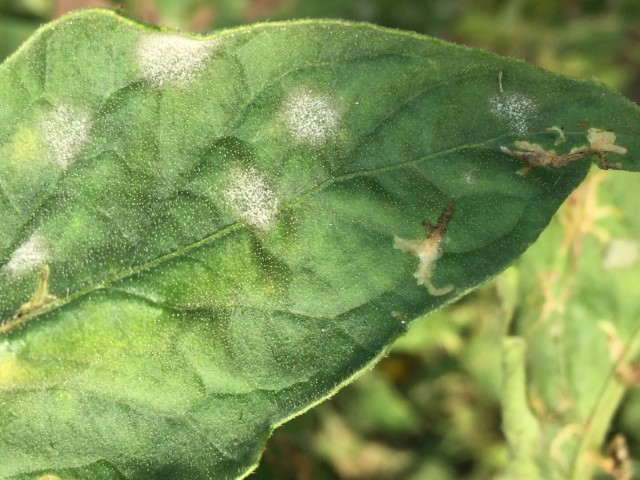oidio: (137, 29, 223, 88), (223, 166, 279, 232), (282, 88, 342, 149), (41, 101, 91, 171), (488, 91, 540, 137), (9, 229, 51, 279)
